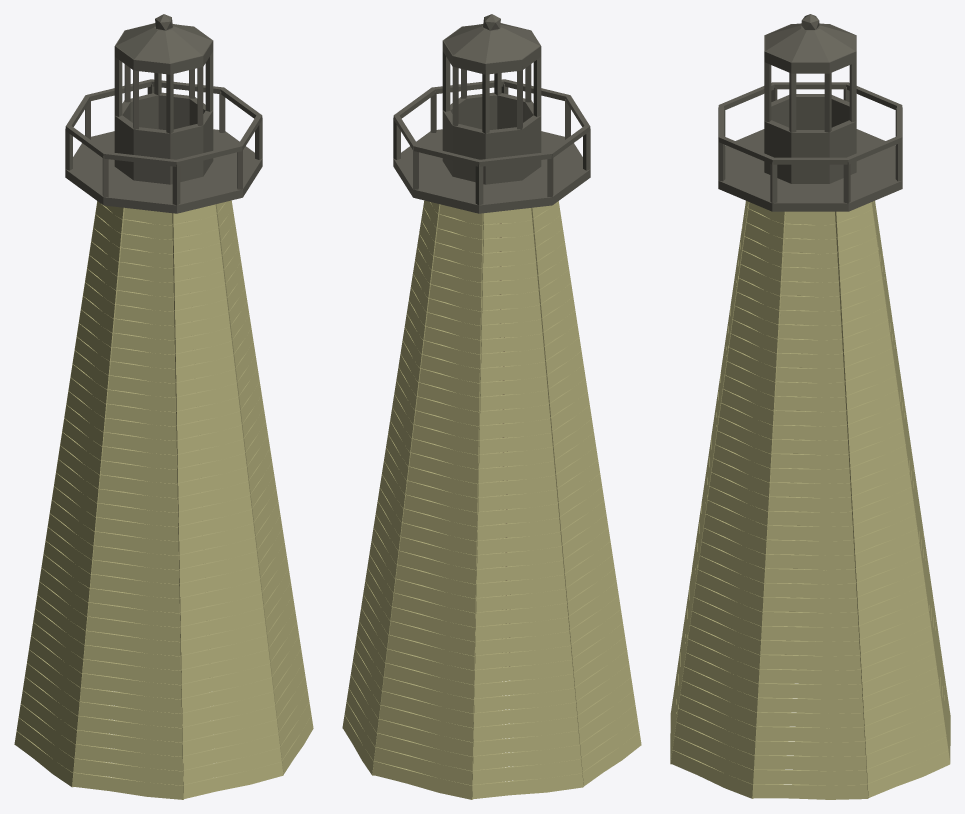
File: Lighthouse Destruction.fbx
3 views of the same model, side by side, from view 1: azimuth 30°, elevation 25°; view 2: azimuth 150°, elevation 25°; view 3: azimuth 270°, elevation 25° (orthographic).
Parts seen in each view (by area): view 1: Cylinder.016, Cylinder.021, Cylinder.017, Cube.108, LighthouseWall_4_41, LighthouseWall_4_40, LighthouseWall_4_39, LighthouseWall_4_38, LighthouseWall_4_37, LighthouseWall_4_36, LighthouseWall_4_35, LighthouseWall_3_41 (+113 smaller); view 2: Cylinder.015, Cylinder.021, Cylinder.017, Cylinder.016, Cube.106, LighthouseWall_6_41, LighthouseWall_6_40, LighthouseWall_6_39, LighthouseWall_6_38, LighthouseWall_6_37, LighthouseWall_6_36, LighthouseWall_6_35 (+114 smaller); view 3: Cylinder.015, Cylinder.021, Cylinder.017, Cube.111, LighthouseWall_1_41, LighthouseWall_1_40, LighthouseWall_1_39, LighthouseWall_1_38, LighthouseWall_1_37, LighthouseWall_1_36, LighthouseWall_1_35, LighthouseWall_1_34 (+118 smaller).
Part boxes in pixels (left/top/right/bottom): Cylinder.016: left=65, top=169, right=242, bottom=213; Cylinder.021: left=116, top=23, right=211, bottom=63; Cylinder.017: left=71, top=139, right=262, bottom=196; Cube.108: left=133, top=127, right=170, bottom=184; LighthouseWall_4_41: left=72, top=772, right=183, bottom=799; LighthouseWall_4_40: left=73, top=758, right=183, bottom=785; LighthouseWall_4_39: left=75, top=744, right=182, bottom=771; LighthouseWall_4_38: left=76, top=730, right=182, bottom=756; LighthouseWall_4_37: left=77, top=716, right=182, bottom=742; LighthouseWall_4_36: left=78, top=701, right=182, bottom=727; LighthouseWall_4_35: left=80, top=687, right=181, bottom=713; LighthouseWall_3_41: left=183, top=762, right=283, bottom=798; Cylinder.015: left=393, top=131, right=478, bottom=213; Cylinder.021: left=444, top=23, right=539, bottom=63; Cylinder.017: left=433, top=129, right=552, bottom=213; Cylinder.016: left=536, top=131, right=590, bottom=204; Cube.106: left=485, top=127, right=522, bottom=184; LighthouseWall_6_41: left=472, top=773, right=583, bottom=799; LighthouseWall_6_40: left=472, top=759, right=582, bottom=784; LighthouseWall_6_39: left=473, top=745, right=580, bottom=770; LighthouseWall_6_38: left=473, top=730, right=579, bottom=755; LighthouseWall_6_37: left=473, top=716, right=578, bottom=741; LighthouseWall_6_36: left=473, top=702, right=577, bottom=727; LighthouseWall_6_35: left=474, top=688, right=575, bottom=712; Cylinder.015: left=772, top=151, right=902, bottom=211; Cylinder.021: left=765, top=23, right=855, bottom=62; Cylinder.017: left=718, top=129, right=895, bottom=211; Cube.111: left=791, top=130, right=829, bottom=183; LighthouseWall_1_41: left=752, top=784, right=868, bottom=799; LighthouseWall_1_40: left=753, top=769, right=867, bottom=785; LighthouseWall_1_39: left=754, top=755, right=866, bottom=771; LighthouseWall_1_38: left=755, top=740, right=865, bottom=756; LighthouseWall_1_37: left=756, top=726, right=864, bottom=742; LighthouseWall_1_36: left=756, top=712, right=864, bottom=728; LighthouseWall_1_35: left=757, top=697, right=863, bottom=713; LighthouseWall_1_34: left=758, top=683, right=862, bottom=699.
Bounding box in the file's own units: 7.9 × 22.59 × 7.9.
